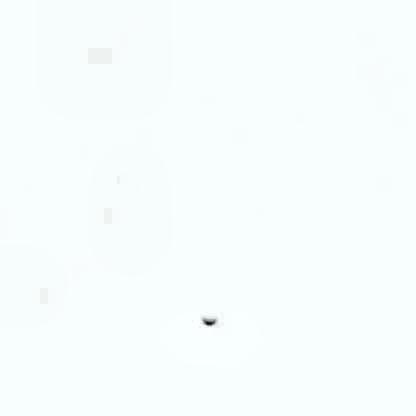golfball: (198, 312, 216, 323)
